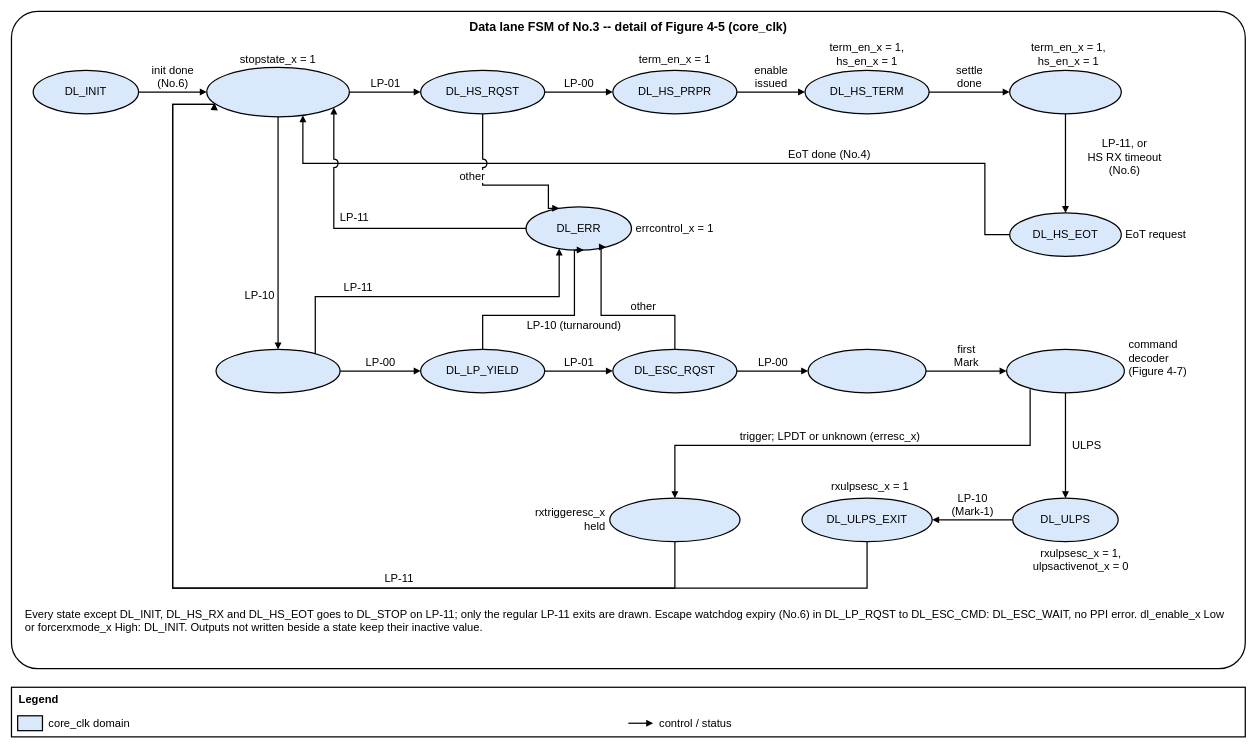
This 1256x748 diagram has some shape labels left out. Here are the shapes that lost their labels. From the top down, the centre of each, then its label:
At (x=278, y=91): "DL_STOP".
At (x=1065, y=91): "DL_HS_RX".
At (x=277, y=370): "DL_LP_RQST".
At (x=866, y=370): "DL_ESC_GO".
At (x=1065, y=370): "DL_ESC_CMD".
At (x=674, y=519): "DL_ESC_WAIT".
